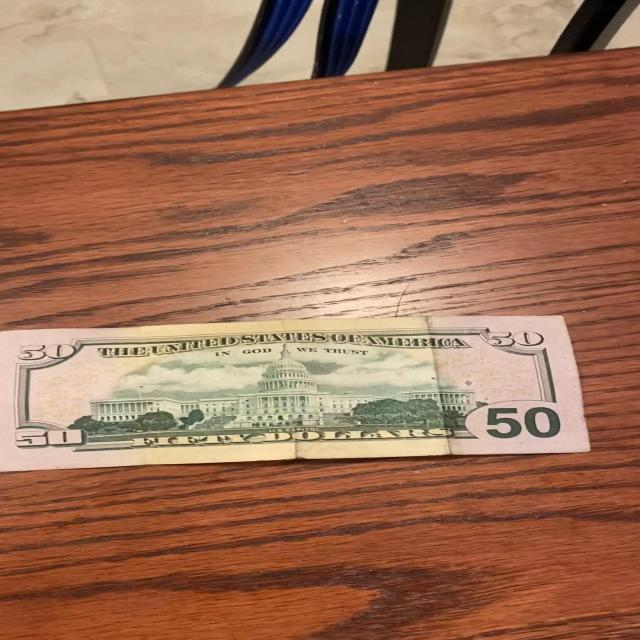50-Back: (1, 305, 594, 481)
